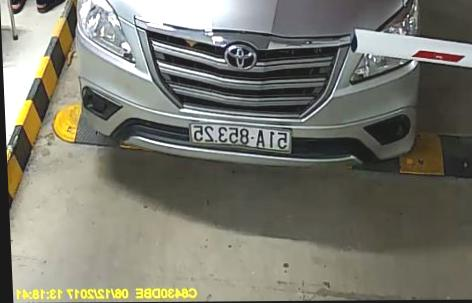License_Plate: (185, 121, 298, 157)
